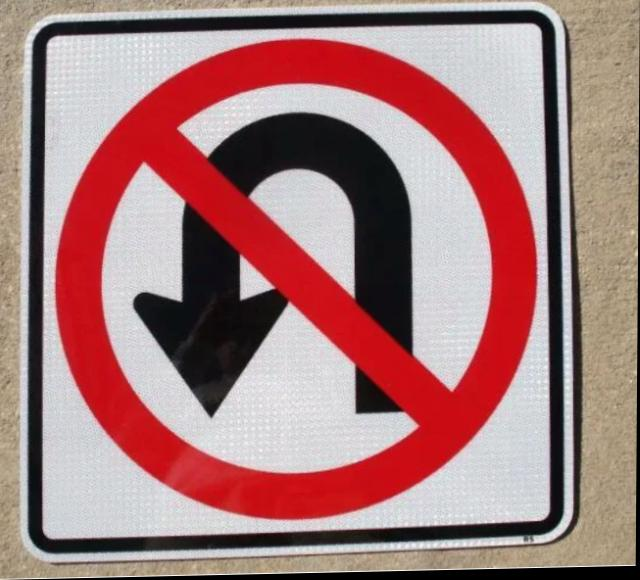not_u_turn_left: (60, 34, 544, 531)
